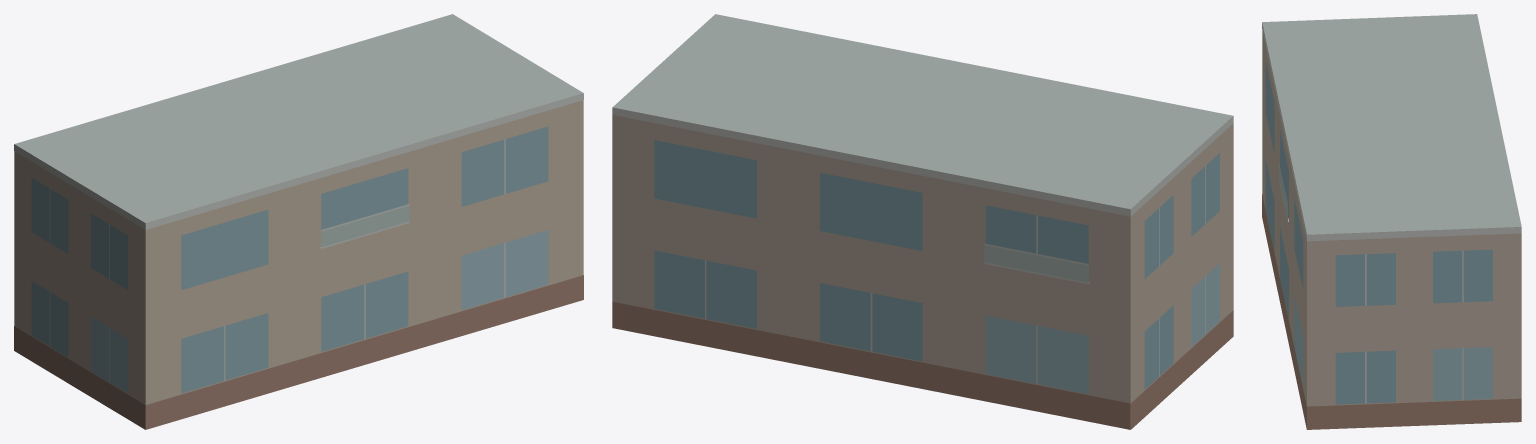
The model's file is survey-upis-32608576.glb.
The picture shows the model from 3 angles, left to right: view 1: azimuth 30°, elevation 25°; view 2: azimuth 150°, elevation 25°; view 3: azimuth 270°, elevation 25°; orthographic projection. The views are drawn at different scales.
Parts seen in each view (by area): view 1: survey-upis-32608576.tmp; view 2: survey-upis-32608576.tmp; view 3: survey-upis-32608576.tmp.
Boxes of the visible parts, box(x1,y1,x2,y2) form: survey-upis-32608576.tmp: box(14, 14, 583, 429); survey-upis-32608576.tmp: box(612, 14, 1233, 429); survey-upis-32608576.tmp: box(1262, 14, 1521, 429).
Bounding box in the file's own units: 17.73 × 7.3 × 8.81.
